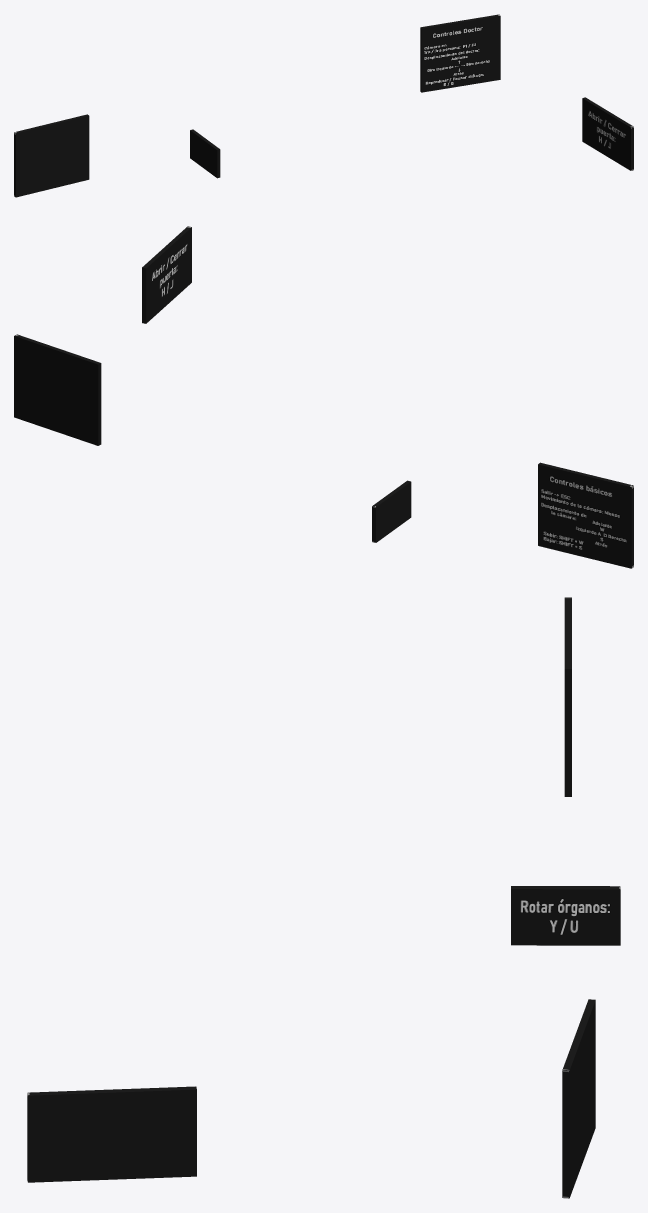
Rendered from CartelesAccion.fbx.
The picture shows the model from 3 angles, top to bottom: view 1: azimuth 30°, elevation 25°; view 2: azimuth 150°, elevation 25°; view 3: azimuth 270°, elevation 25°; orthographic projection. The views are drawn at different scales.
Visible parts, largest first — view 1: Cube.004, Cube.003, Cube.010, Cube.012; view 2: Cube.003, Cube.004, Cube.010, Cube.012; view 3: Cube.010, Cube.012, Cube.004, Cube.003.
Boxes of the visible parts, x1,y1,x2,y2 form: Cube.004: (420, 14, 500, 92); Cube.003: (14, 114, 89, 197); Cube.010: (582, 97, 633, 170); Cube.012: (190, 129, 220, 178); Cube.003: (538, 462, 633, 568); Cube.004: (14, 334, 101, 445); Cube.010: (142, 226, 191, 323); Cube.012: (372, 480, 411, 542); Cube.010: (27, 1086, 196, 1182); Cube.012: (511, 886, 620, 945); Cube.004: (562, 999, 595, 1198); Cube.003: (564, 597, 571, 796).
Size of the model in its own units: 4843 by 771 by 2567.
Materials: 4 (4 with a texture image).
